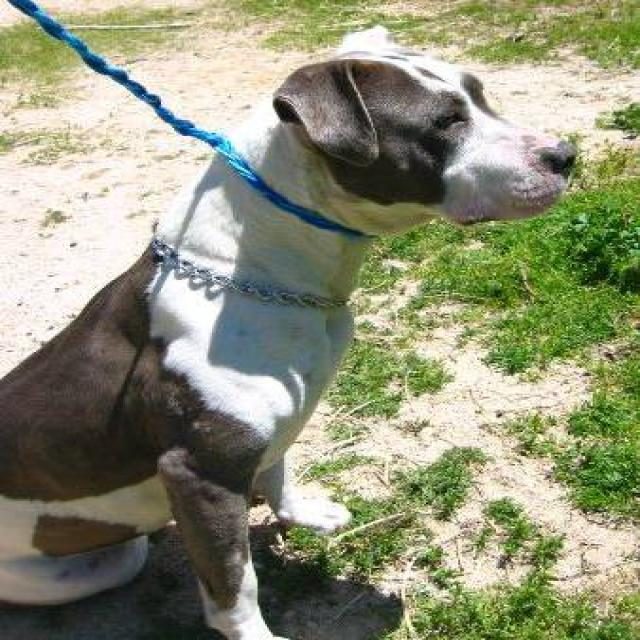dog: (0, 24, 578, 638)
